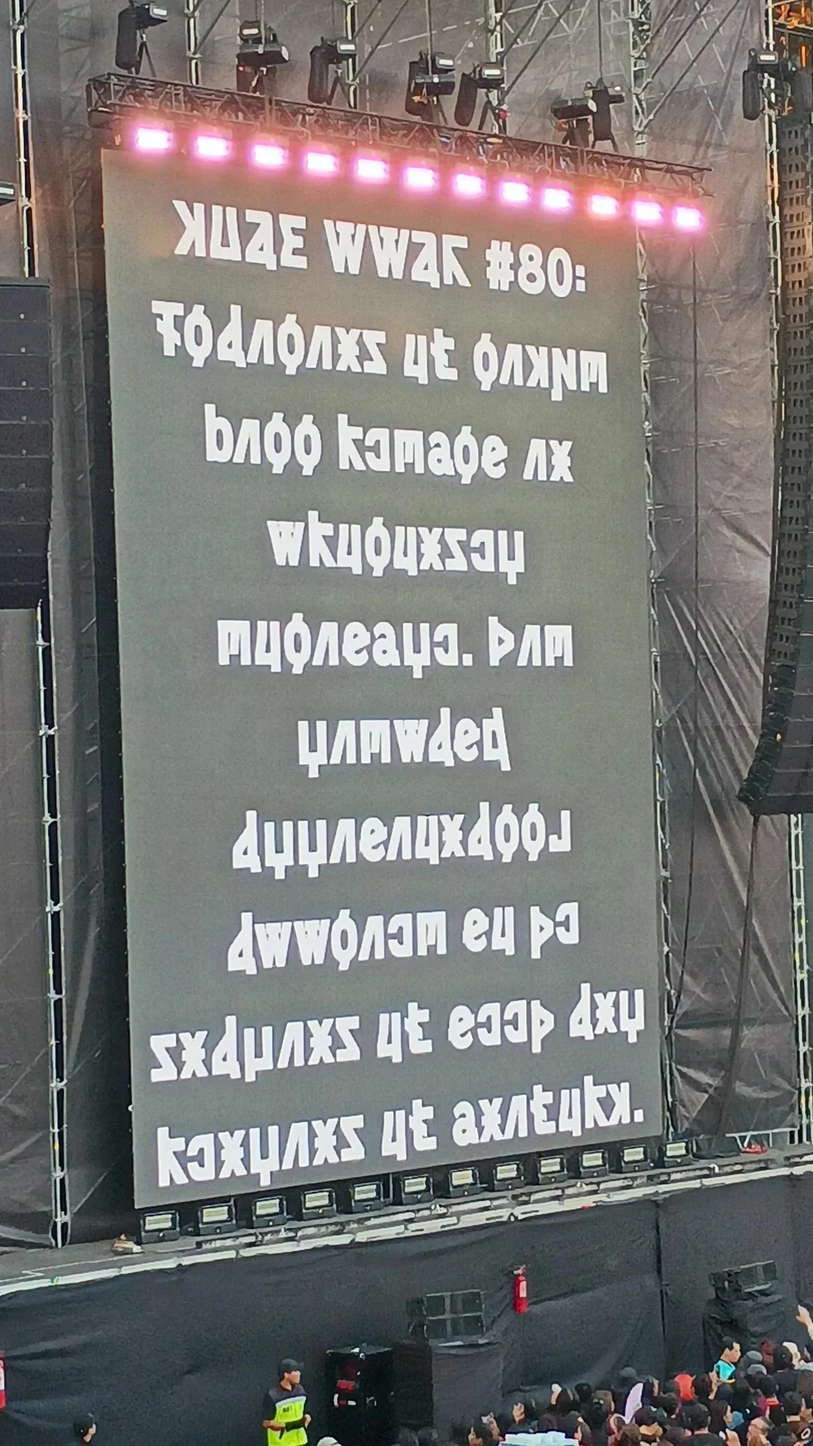0: (545, 241, 581, 302)
8: (512, 239, 548, 301)
A: (241, 206, 281, 272), (406, 227, 444, 292)
F: (149, 294, 186, 357)
M: (169, 195, 209, 261)
O: (205, 202, 245, 268)
P: (321, 215, 369, 280), (365, 221, 413, 285)
R: (438, 230, 474, 292)
T: (275, 210, 315, 275)
TH: (484, 614, 517, 667)
a: (228, 807, 265, 877), (214, 304, 251, 372), (224, 909, 259, 978), (211, 1013, 244, 1080), (425, 705, 457, 772), (465, 800, 495, 864), (566, 979, 596, 1043)
b: (549, 345, 580, 403)
ch: (480, 705, 515, 774)
d: (296, 816, 331, 884), (263, 814, 297, 882), (246, 1124, 280, 1188), (295, 716, 329, 778), (495, 527, 527, 587), (400, 621, 431, 681), (617, 986, 647, 1046)
e: (185, 1128, 218, 1184), (363, 424, 395, 478), (430, 621, 462, 671), (502, 997, 533, 1048), (468, 525, 498, 577), (474, 999, 504, 1050), (384, 911, 414, 960), (553, 899, 583, 948)
f: (402, 1001, 436, 1058), (428, 326, 461, 382), (406, 1096, 438, 1151), (528, 1082, 557, 1137)
g: (145, 1030, 180, 1083), (338, 1112, 370, 1167), (359, 324, 390, 378), (332, 1014, 364, 1064), (440, 524, 470, 575)
i: (231, 415, 265, 470), (245, 315, 278, 371), (280, 1120, 312, 1174), (384, 811, 415, 866), (276, 1017, 307, 1072), (328, 716, 360, 769), (311, 617, 341, 673), (304, 321, 335, 375), (329, 815, 359, 869), (357, 911, 387, 965), (520, 435, 550, 487), (515, 622, 546, 670), (497, 340, 527, 389), (503, 1092, 531, 1142)
l: (180, 303, 217, 368), (292, 412, 325, 479), (274, 312, 307, 378), (262, 411, 295, 477), (281, 611, 311, 678), (362, 514, 392, 580), (329, 907, 359, 972), (469, 330, 499, 393), (492, 802, 522, 865), (451, 424, 481, 486), (519, 802, 548, 865)
m: (522, 342, 552, 390), (606, 1079, 633, 1130)
n: (176, 1027, 214, 1082), (215, 1127, 249, 1180), (305, 1016, 337, 1070), (309, 1115, 341, 1169), (438, 811, 469, 866), (332, 322, 363, 376), (416, 523, 446, 576), (477, 1093, 507, 1146), (546, 435, 576, 487), (591, 988, 619, 1037)
o: (252, 619, 285, 675), (334, 521, 366, 578), (390, 521, 420, 580), (381, 1109, 413, 1163), (410, 813, 441, 868), (374, 1009, 405, 1064), (401, 331, 432, 385), (489, 905, 520, 957), (556, 1085, 584, 1141)
p: (265, 517, 308, 570), (252, 917, 294, 970), (290, 915, 332, 968), (391, 715, 430, 769)
r: (153, 1123, 190, 1186), (303, 508, 338, 571), (335, 412, 367, 474), (581, 1073, 610, 1129)
s: (215, 615, 254, 669), (414, 907, 453, 958), (391, 423, 427, 477), (358, 714, 393, 769), (543, 621, 577, 671), (578, 347, 610, 399)
sh: (242, 1023, 276, 1085)
t: (445, 997, 478, 1054), (357, 811, 388, 866), (452, 713, 482, 768), (460, 907, 493, 956), (480, 430, 510, 482), (340, 619, 371, 668)
th: (528, 997, 557, 1056), (526, 906, 556, 959)
u: (424, 429, 457, 479), (449, 1097, 480, 1149), (371, 619, 402, 669)
w: (200, 401, 236, 465)
y: (547, 806, 576, 859)
